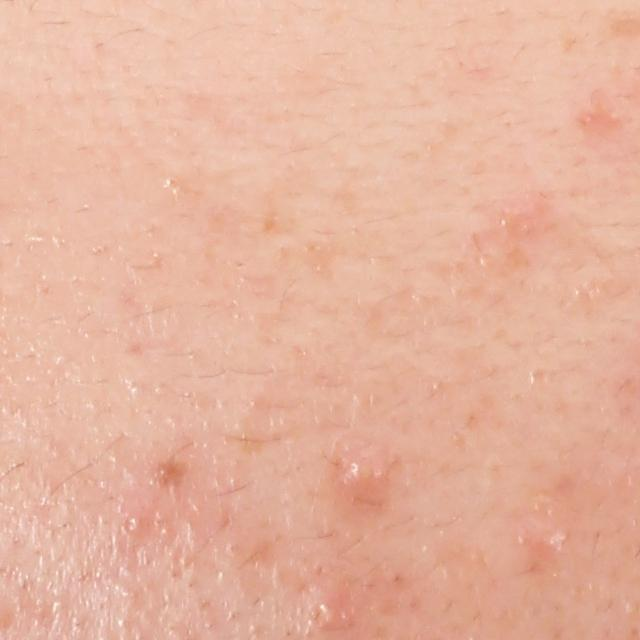papule: (335, 452, 383, 500)
